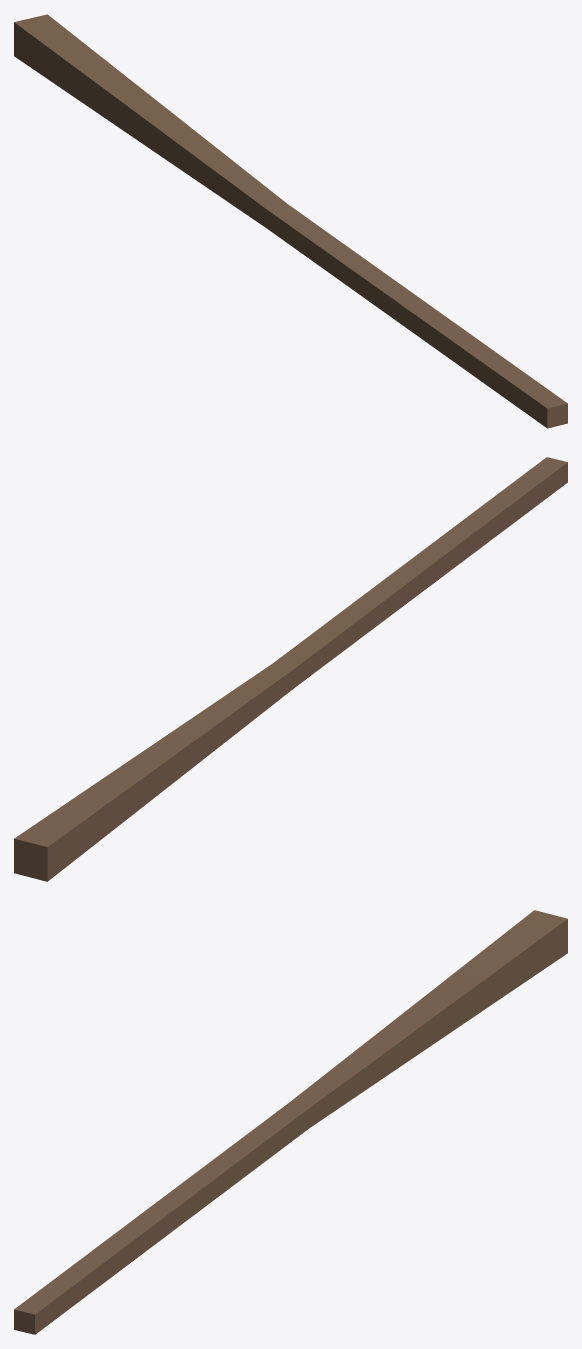
Rendered from Flag Pole 2.fbx.
3 renders of one model, top to bottom at view 1: azimuth 30°, elevation 25°; view 2: azimuth 150°, elevation 25°; view 3: azimuth 330°, elevation 25°, orthographic.
Parts seen in each view (by area): view 1: Flag Pole 2; view 2: Flag Pole 2; view 3: Flag Pole 2.
Part boxes in pixels (x1,y1,x2,y2): Flag Pole 2: (14,14,567,428); Flag Pole 2: (14,457,567,881); Flag Pole 2: (14,910,567,1334).
Size of the model in its own units: 11.47 by 11.26 by 312.
